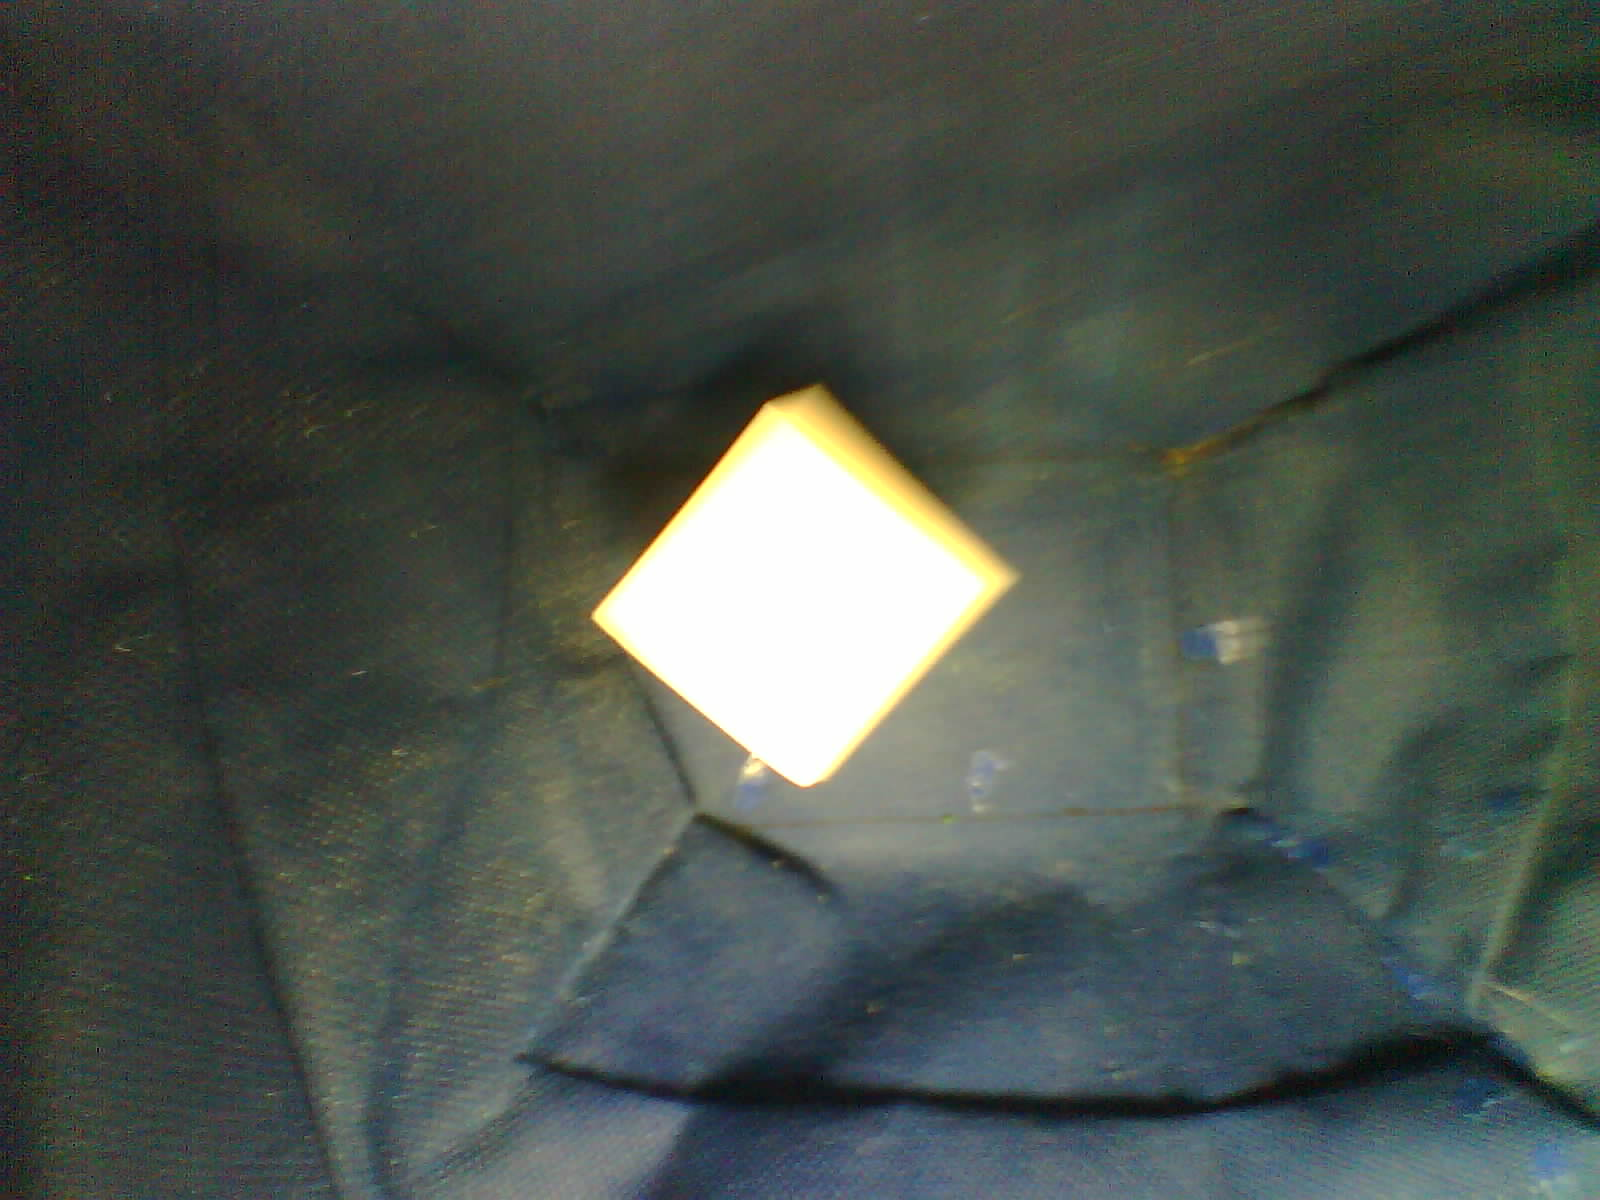cube-hard: (552, 364, 1028, 798)
